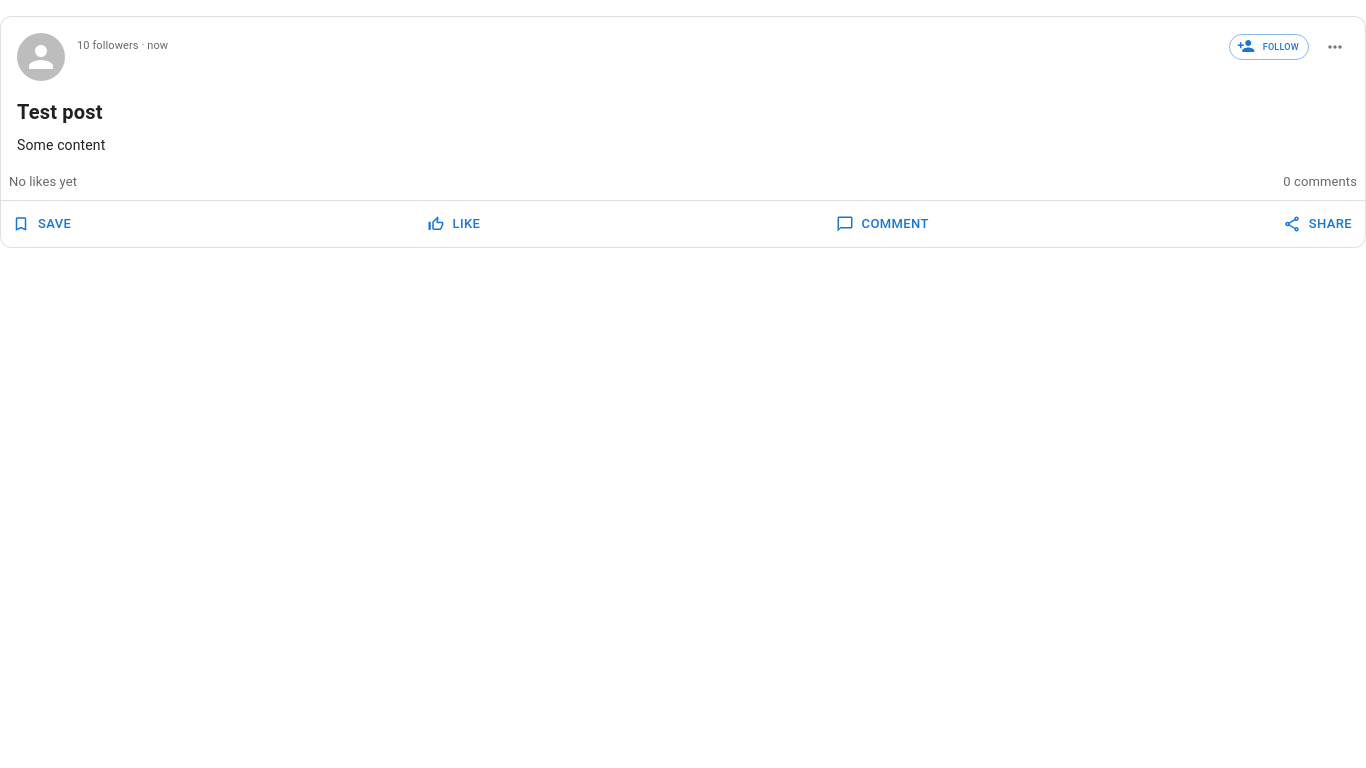
Test case: Report-a-post: dialog flow › dialog closes on success and success toast appears
What coordinates should you click on to do the following:
click the button named "post options"
I would click on:
 (1335, 47)
Its box is [1313,25,1357,69].
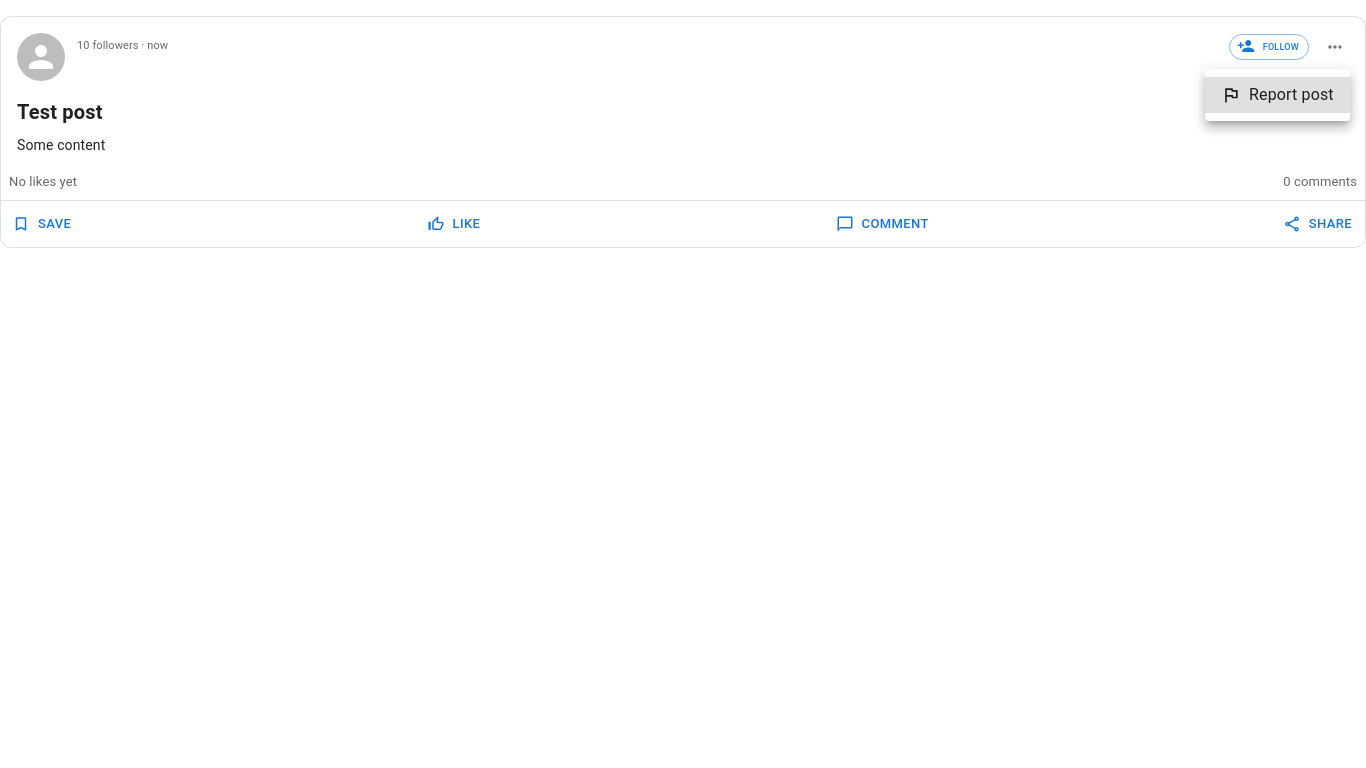
What coordinates should you click on to do the following:
click the menu item "Report post"
I would click on:
 (1277, 95)
Its box is [1205,77,1350,113].
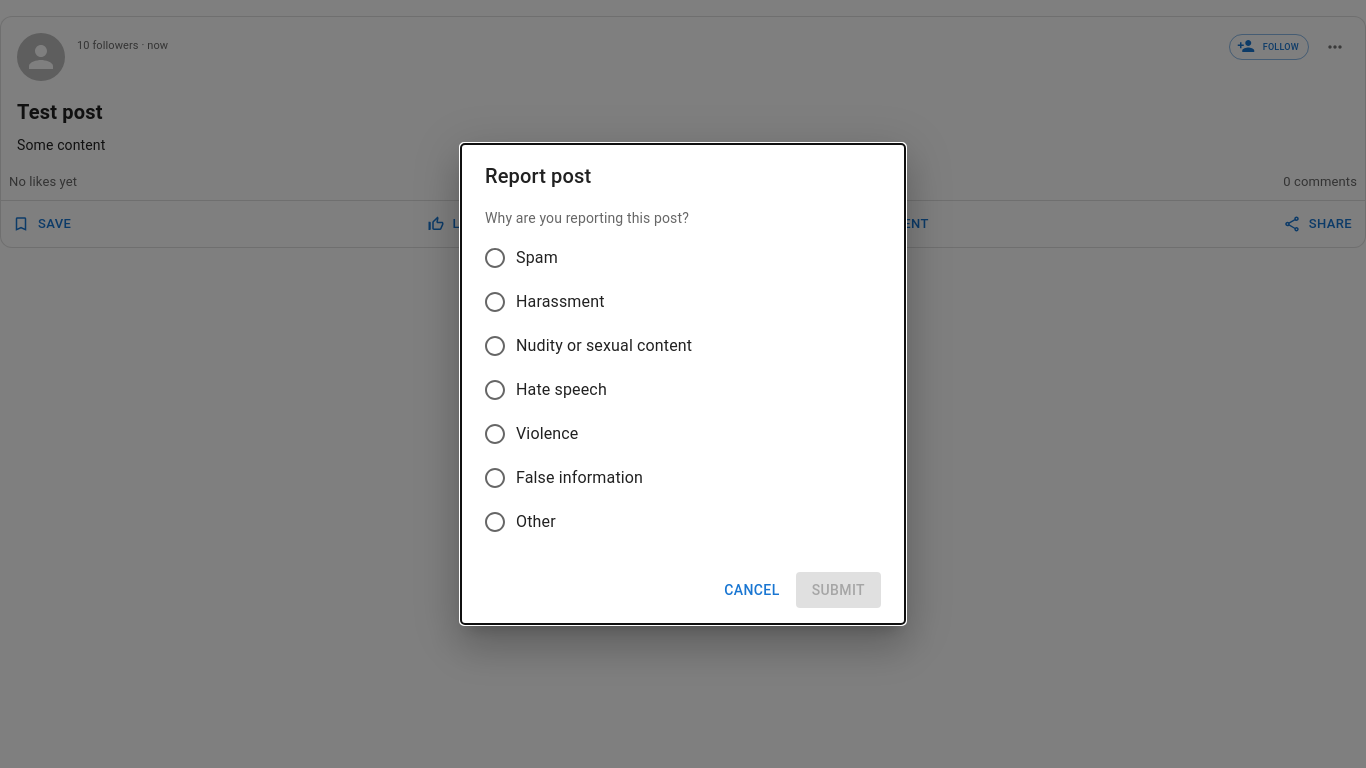
What coordinates should you click on to do the following:
click the radio button labelled "Harassment"
I would click on:
 (544, 302)
Its box is [483,290,604,314].
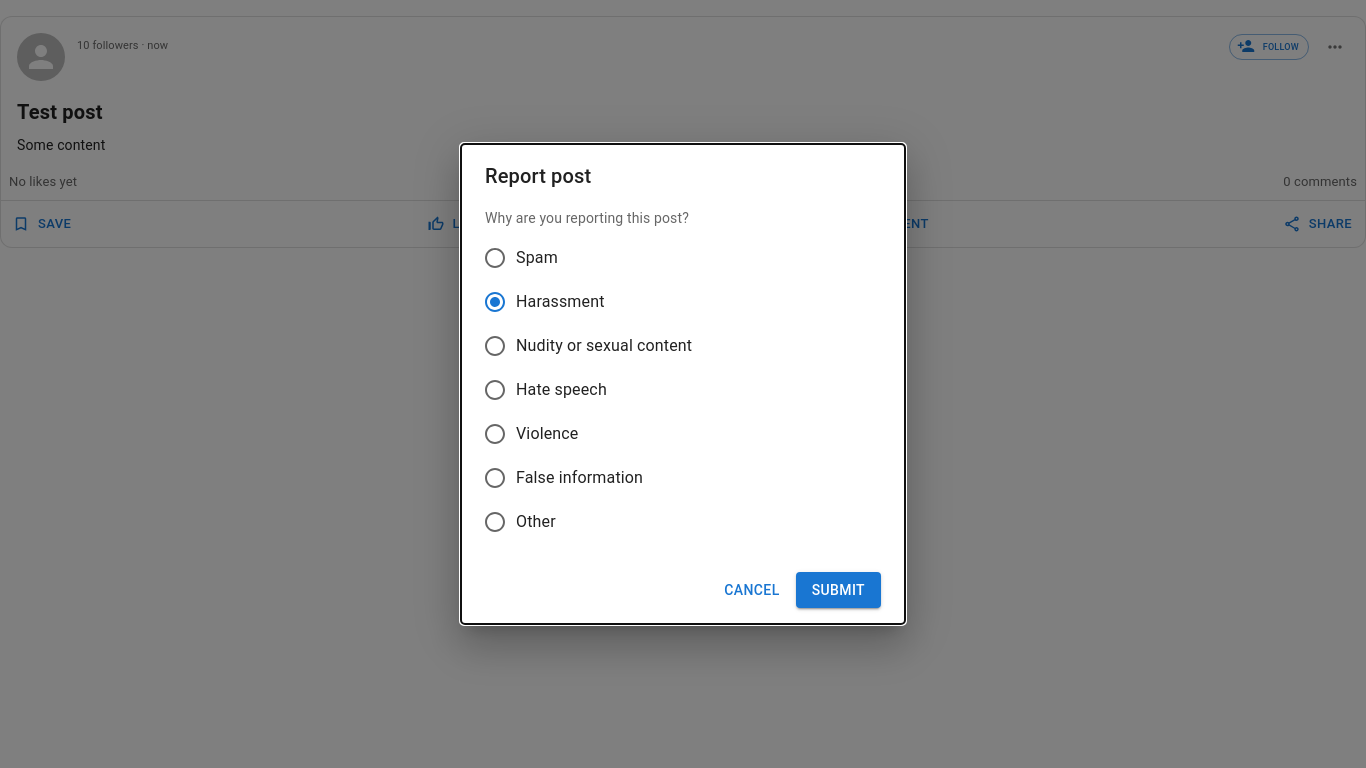
What coordinates should you click on to do the following:
click the button "Submit"
I would click on:
 (838, 590)
Its box is [796,572,881,608].
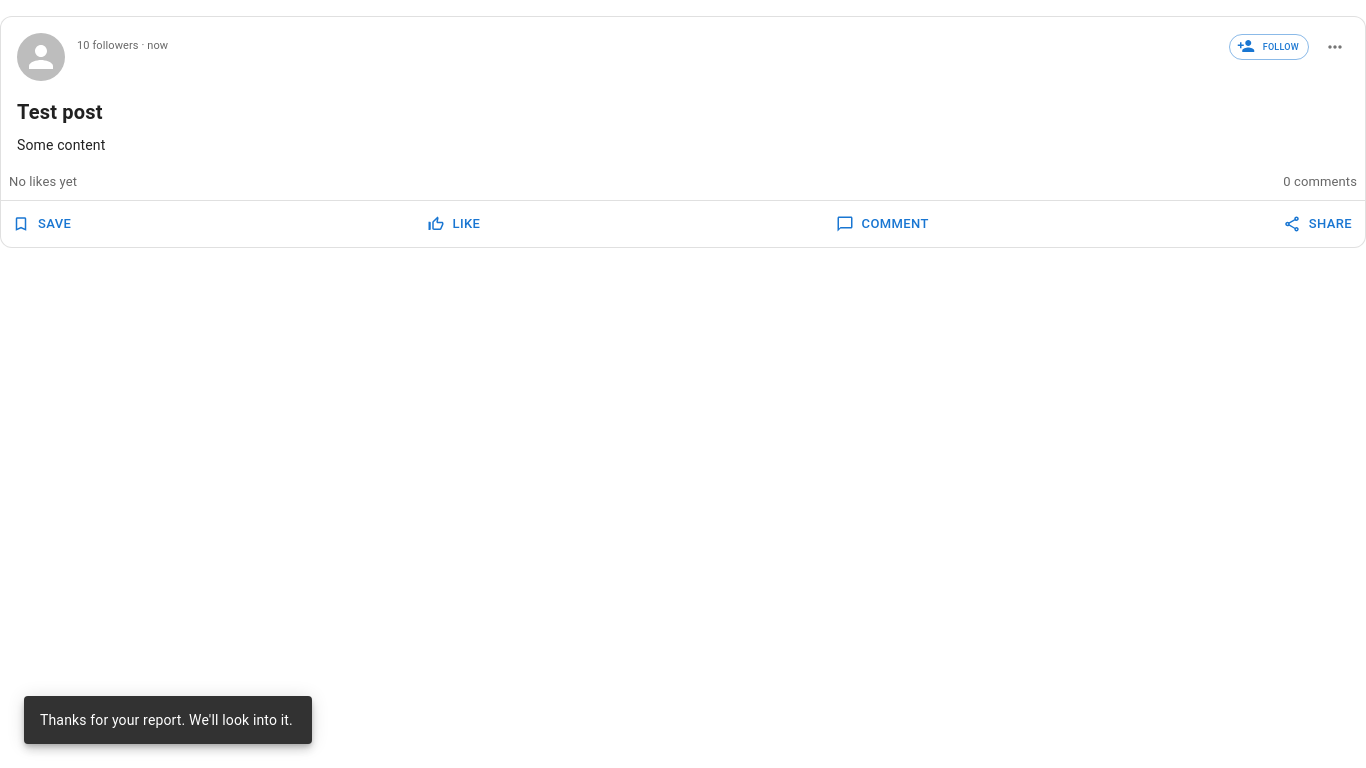
Result: the dialog is gone
Result: the text "Thanks for your report. We'll look into it." is shown at [40,712,293,728]
